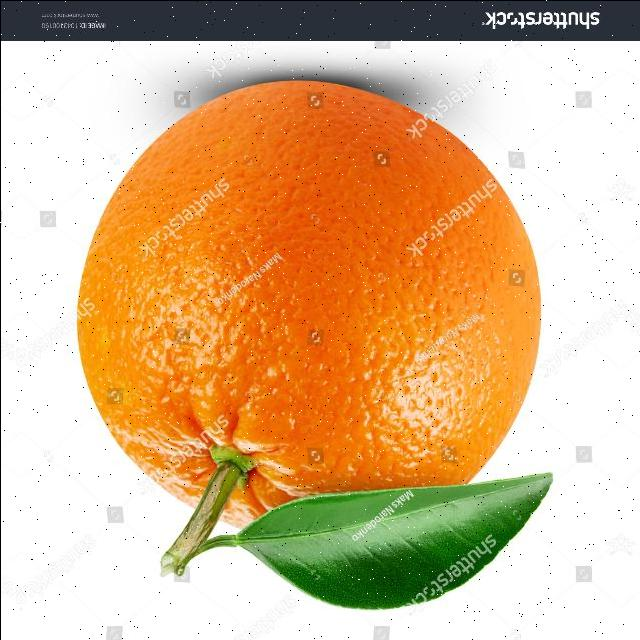Orange: (75, 78, 543, 533)
